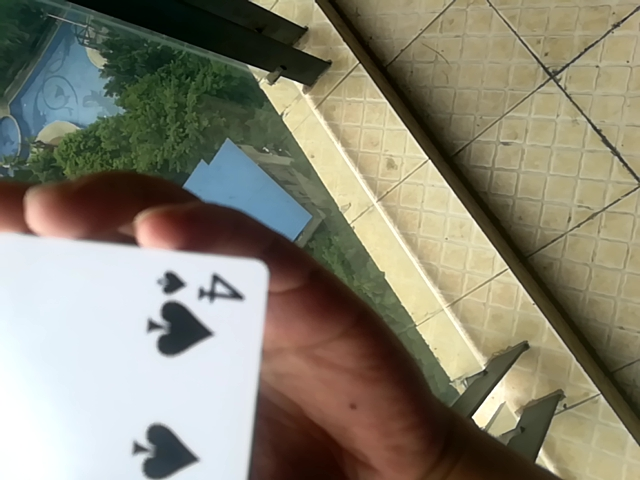ht 4: (0, 202, 271, 480)
